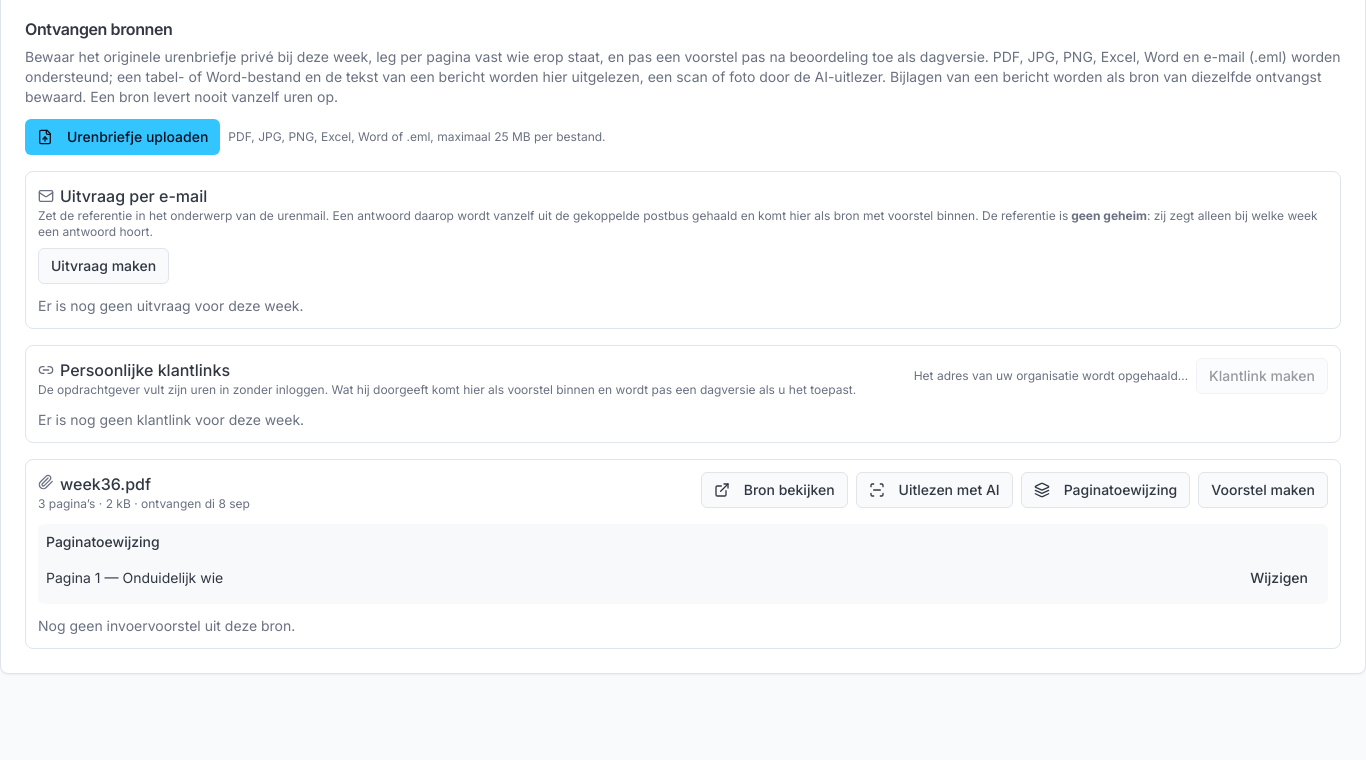
Test: internal hours intake › asks which page a proposal came from once the source has been judged per page
Click the button "Voorstel maken": point(1263, 490) [1198,472,1328,508]
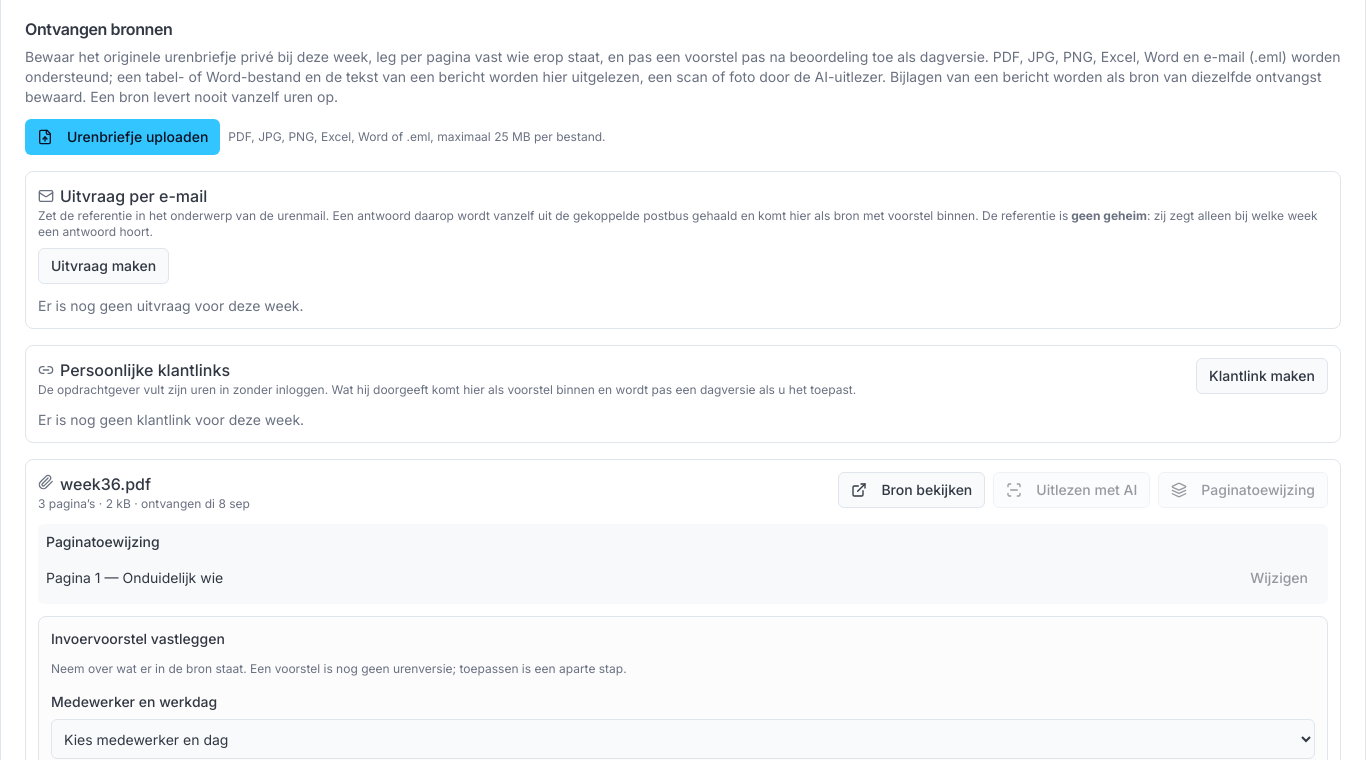
Select "Testmedewerker — ma 7 sep" in the dropdown labelled "Medewerker en werkdag": point(683, 739) [51,719,1315,759]
(page scrolled)
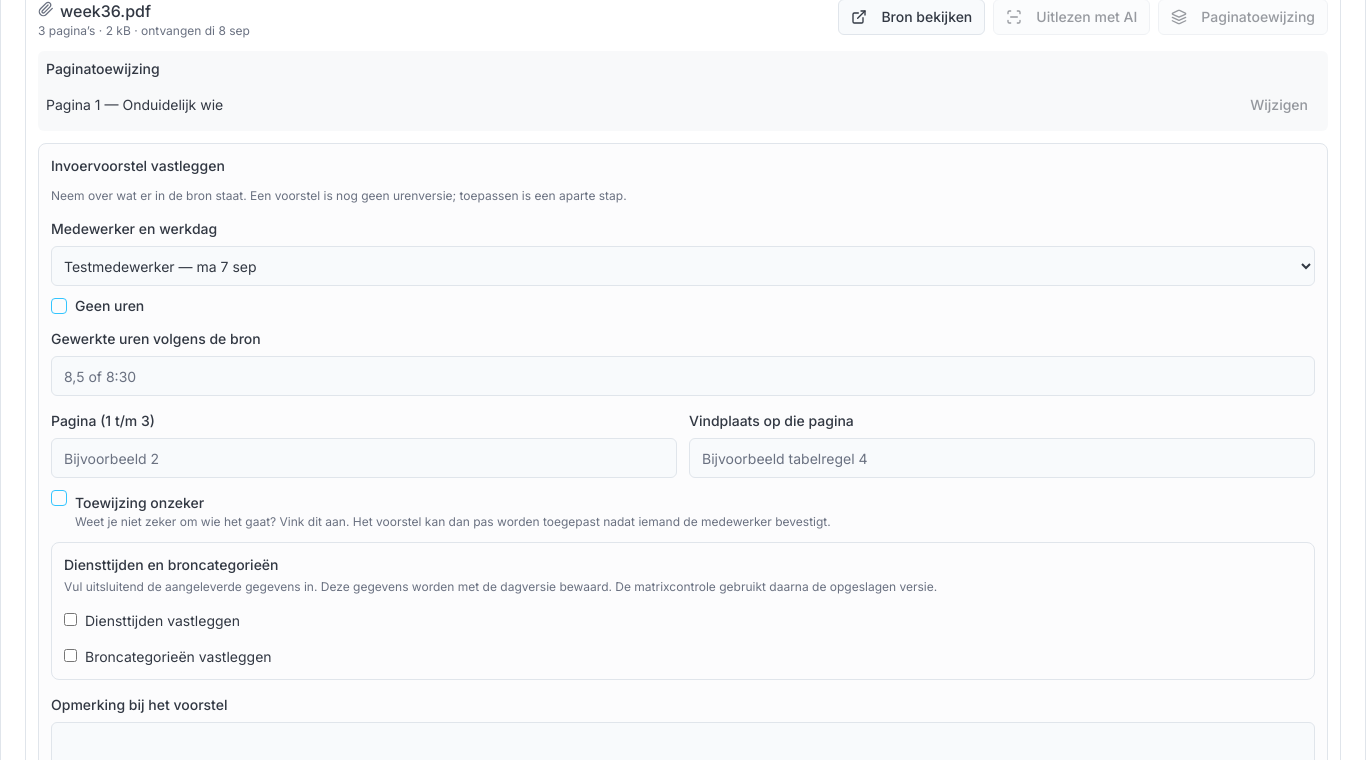
In the field labelled "Gewerkte uren volgens de bron": point(683, 376) [51,356,1315,396], type "8:00"
(page scrolled)
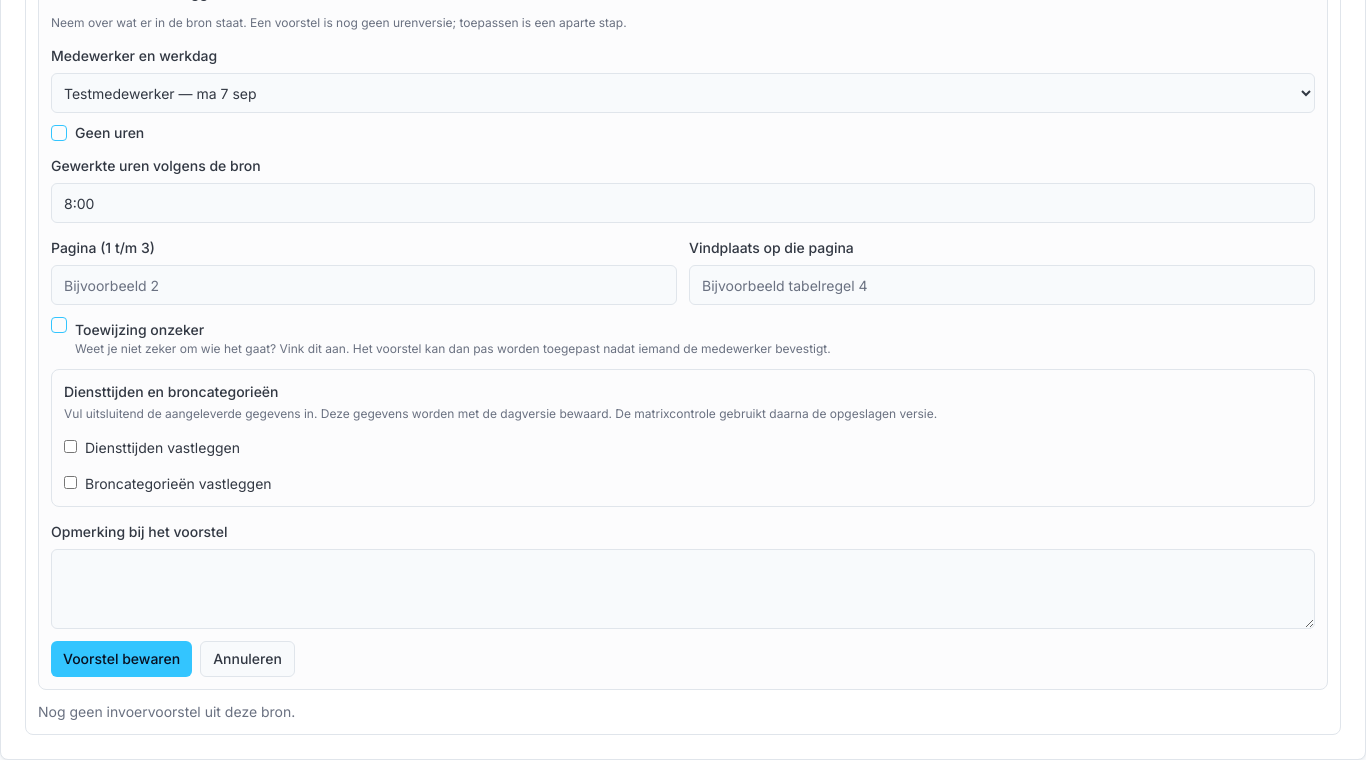
Click the button "Voorstel bewaren": point(122, 659) [51,641,192,677]
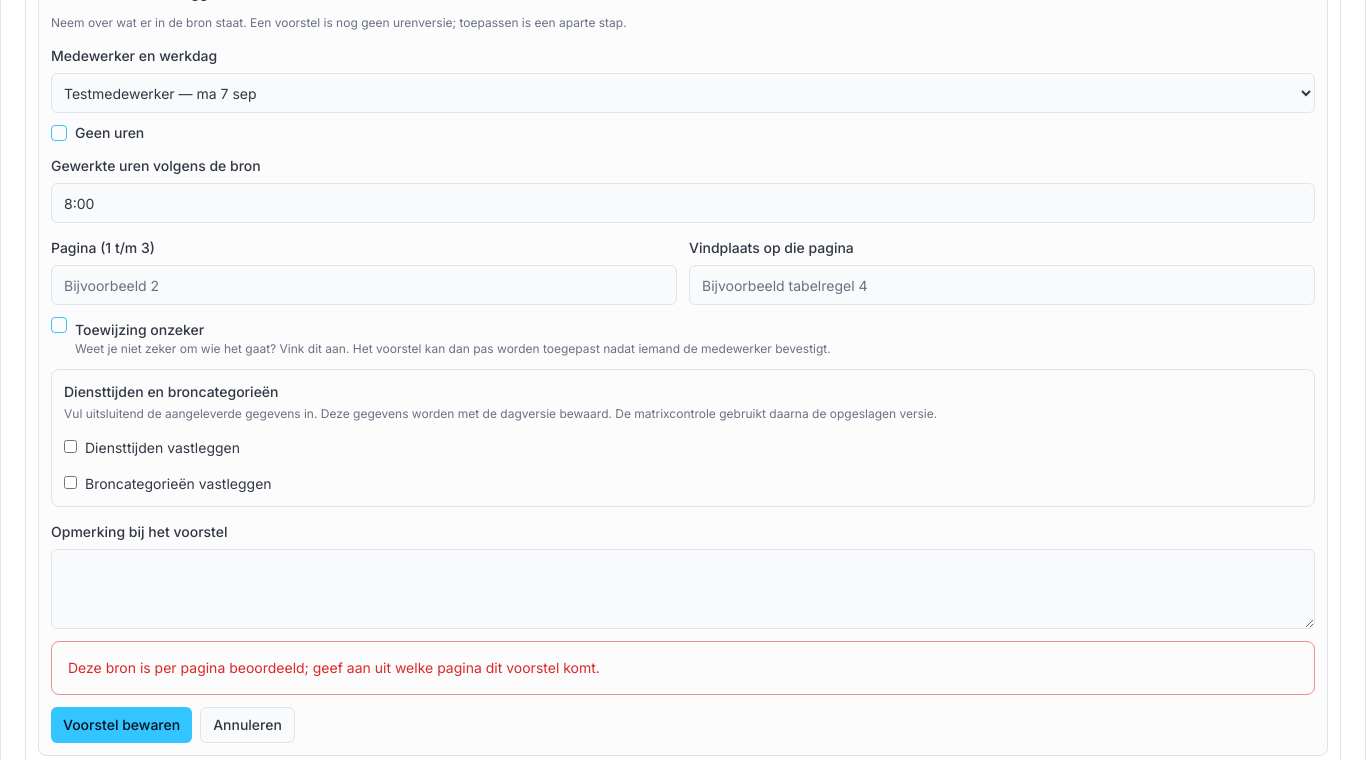
Now the text "uit welke pagina" is shown, box [68,659,600,676]
